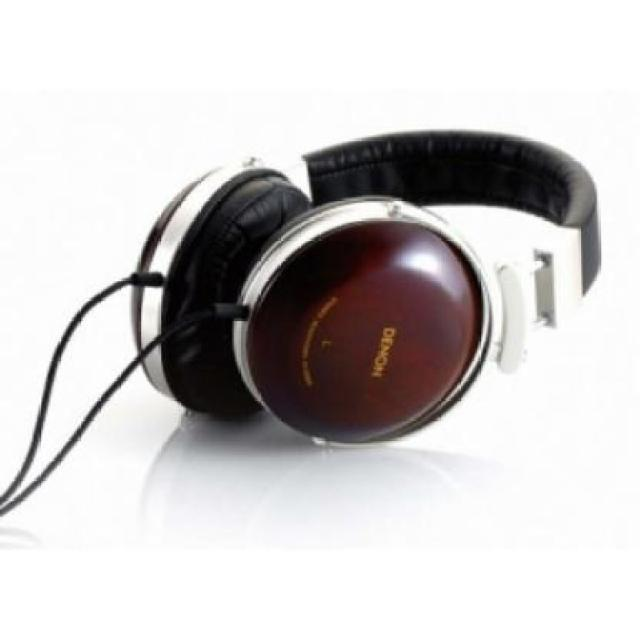earphone: (112, 95, 630, 462)
